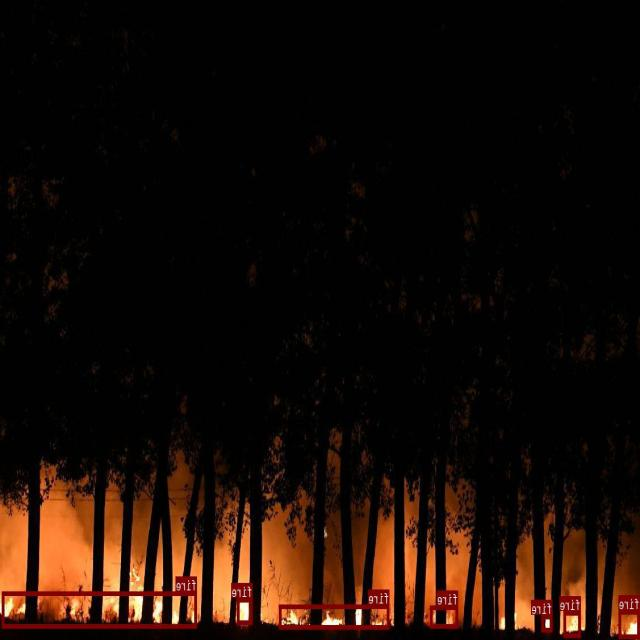fire: (2, 591, 198, 627), (280, 604, 390, 628), (431, 605, 458, 627), (620, 609, 640, 637), (564, 610, 582, 636), (238, 597, 253, 624), (542, 614, 553, 631)
